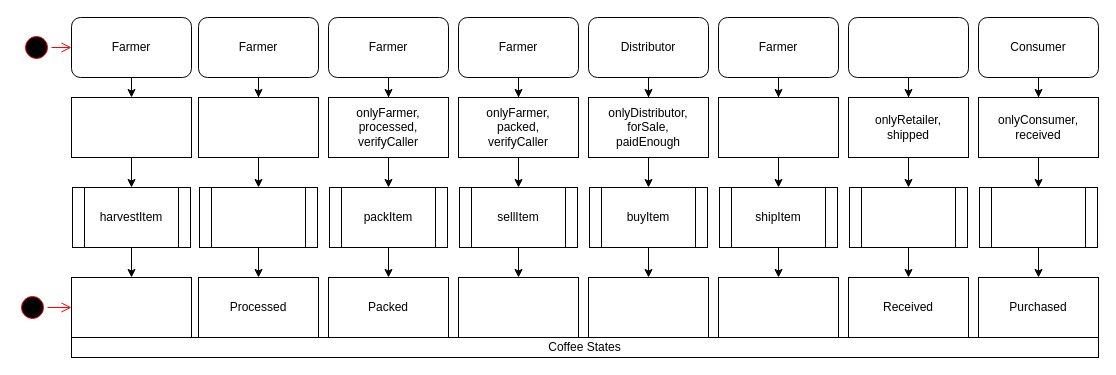
The diagram is 1116 pixels wide and 375 high, and some of its shapes have lost their labels. Here are the shapes that lost their labels. From the top down, the box of each, then its label:
(848, 16, 968, 78): Retailer
(70, 96, 192, 158): onlyFarmer
(198, 96, 318, 158): onlyFarmer, harvested, verifyCaller
(718, 96, 838, 158): onlyFarmer, sold, verifyCaller
(198, 186, 318, 248): processItem
(848, 186, 968, 248): receiveItem
(978, 186, 1098, 248): puchaseItem
(70, 276, 192, 338): Harvested
(458, 276, 578, 338): ForSale
(588, 276, 708, 338): Sold
(718, 276, 838, 338): Shipped
